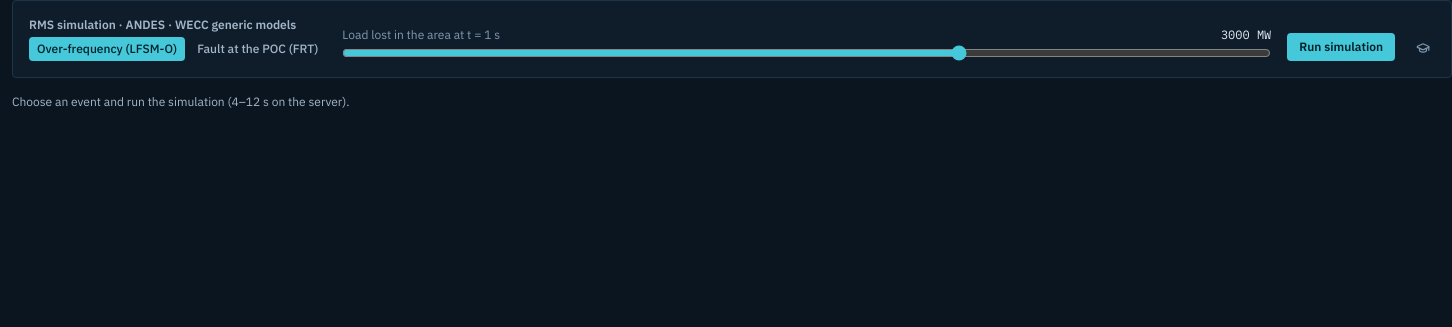
Test case: ANDES dynamics › runs the frequency event and compares with the droop formula
The image size is (1452, 327).
What coordinates should you click on to do the following:
click the button "Run simulation"
I would click on:
 (1341, 47)
Its box is [1287, 33, 1395, 61].
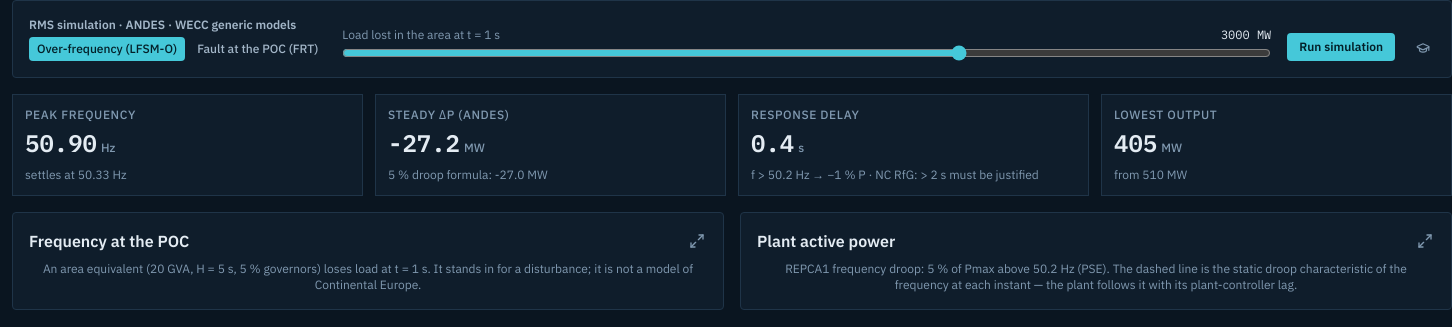
Now the text "-27.2" is shown, box [388, 127, 460, 159]
Now the text "5 % droop formula: -27.0 MW" is shown, box [388, 167, 548, 182]
